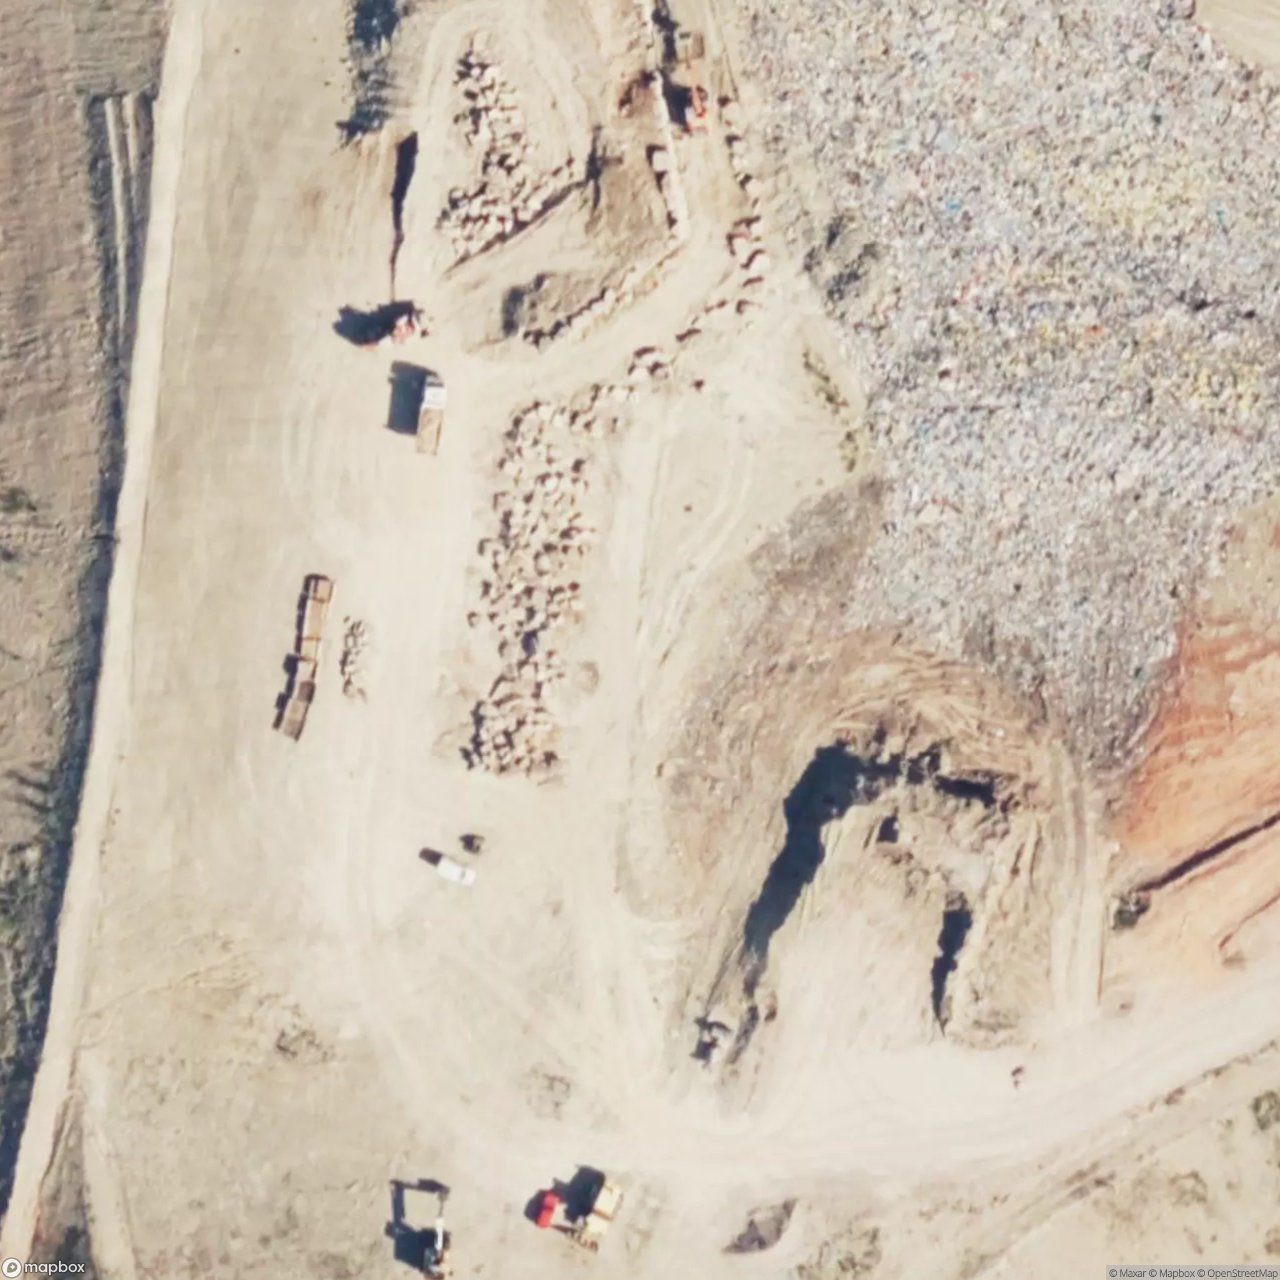dump_site: (778, 0, 1279, 748), (433, 372, 624, 817)
